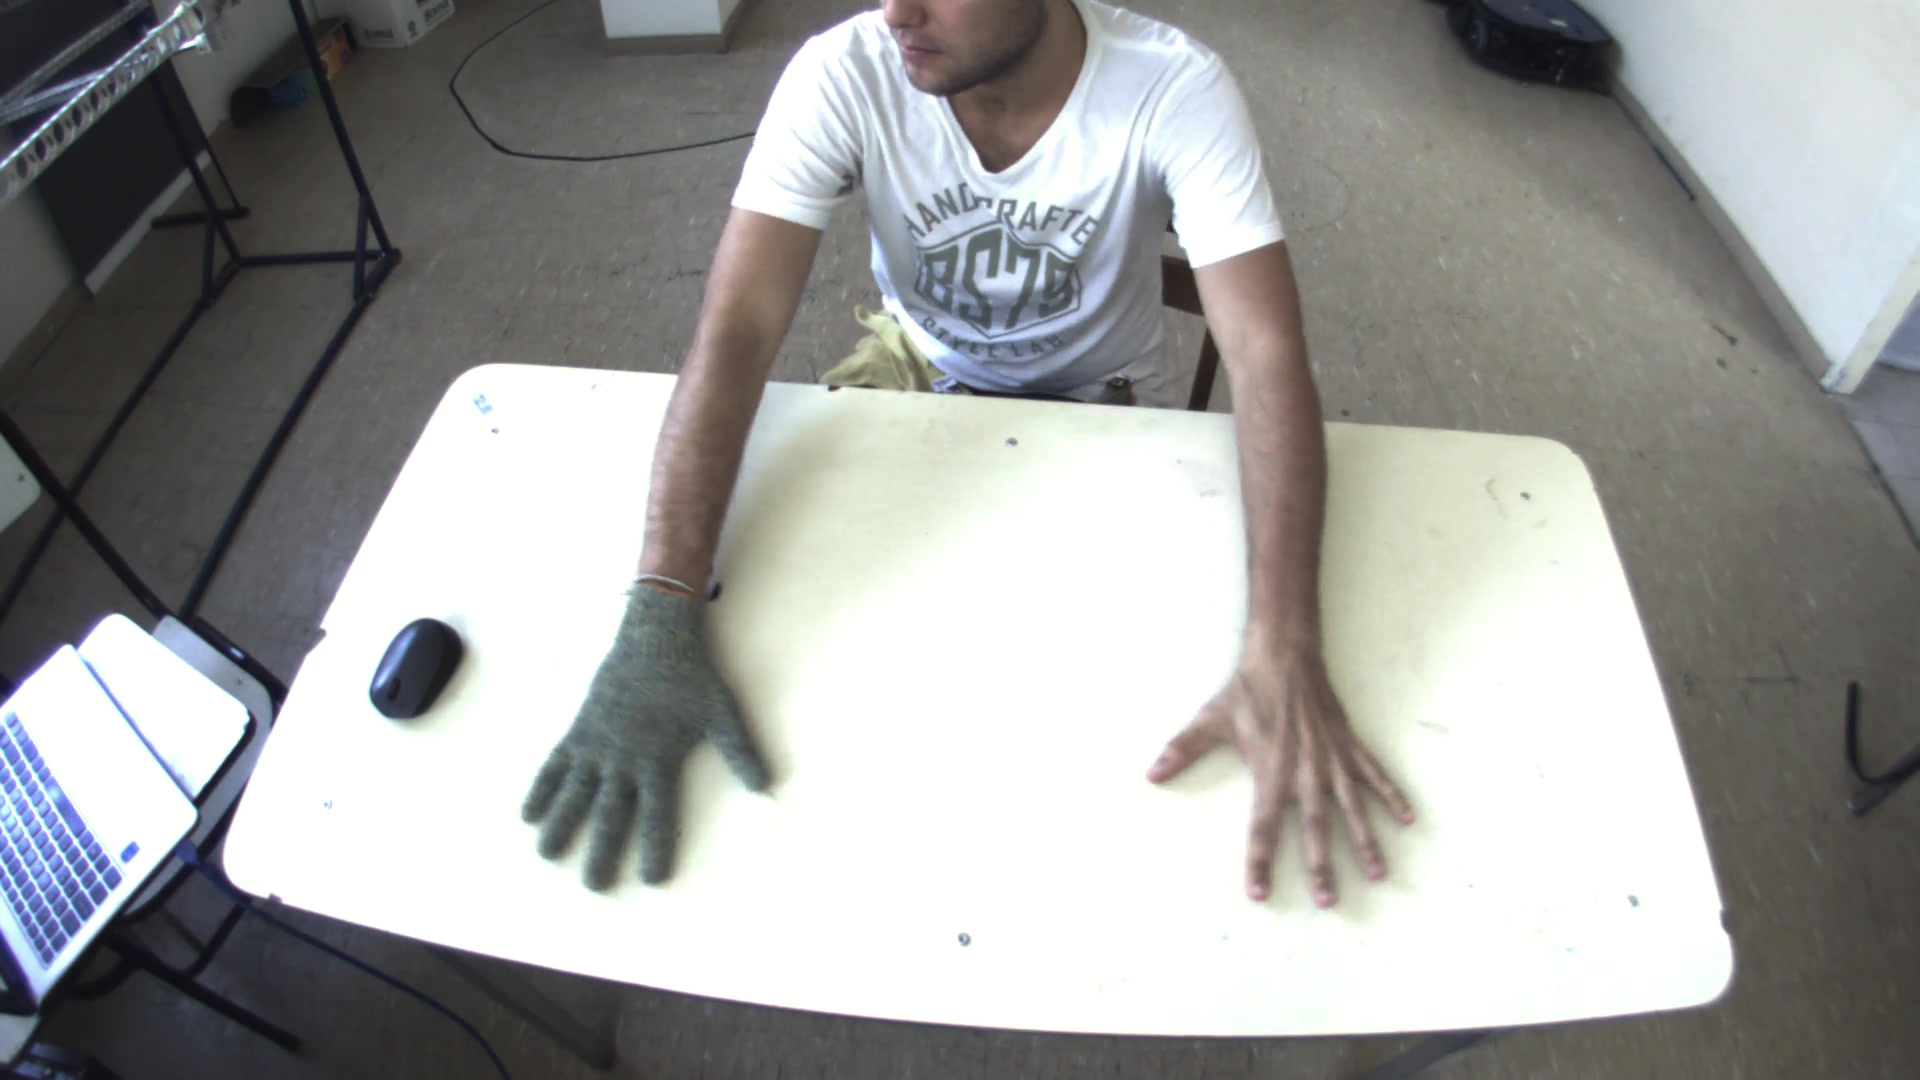hand: (1135, 618, 1441, 923), (502, 575, 774, 901)
